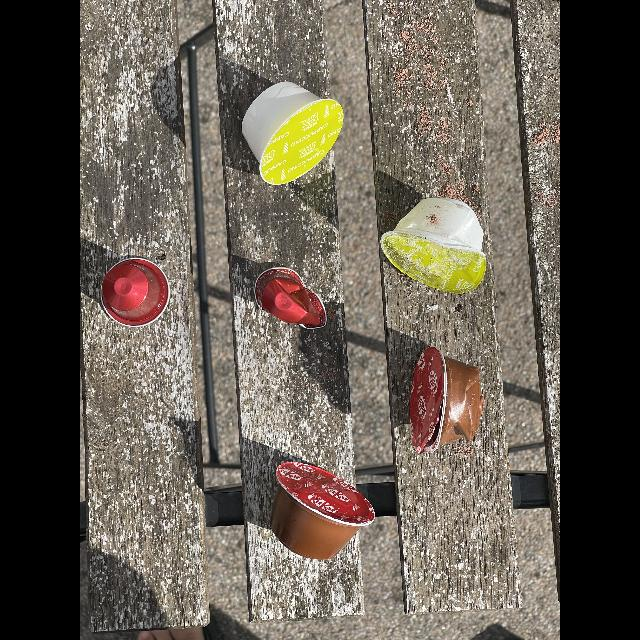damaged_capsule: (378, 190, 488, 298), (404, 342, 490, 456), (249, 264, 335, 336)
intact_capsule: (265, 451, 379, 563), (238, 74, 346, 188), (93, 251, 177, 331)
